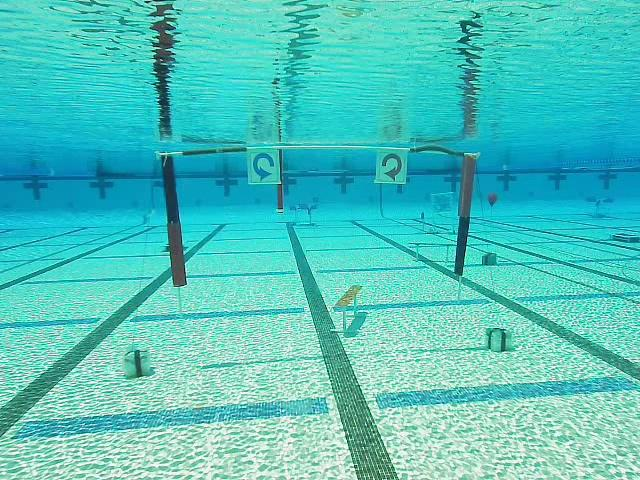buoy: (487, 192, 498, 207)
dropper: (611, 232, 637, 243)
gate: (156, 145, 482, 288)
gate_blue: (249, 150, 280, 183)
gate_leg_l: (158, 151, 187, 288)
gate_leg_r: (454, 150, 480, 275)
gate_red: (377, 150, 407, 184)
table: (581, 192, 616, 216), (290, 203, 317, 224)
torpedo: (430, 192, 453, 214)
